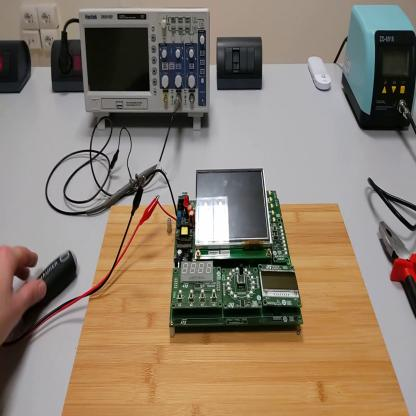hand: (1, 245, 45, 348)
low voltage board: (148, 171, 305, 330)
oscilloscope: (79, 6, 212, 133)
oscilloscope probe tip: (90, 164, 157, 216)
pliers: (378, 220, 416, 317)
screwdriver-: (27, 253, 79, 317)
socket: (51, 38, 84, 94), (1, 41, 33, 95)
welder station: (342, 3, 416, 132)
working area: (62, 202, 411, 414)
